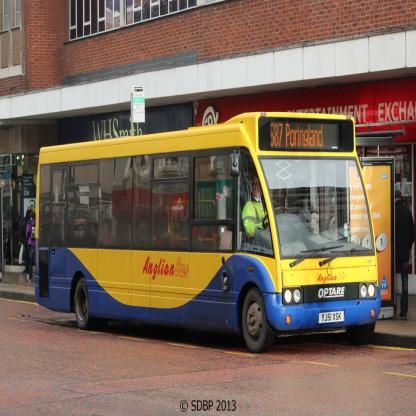Bus: (34, 112, 381, 353)
